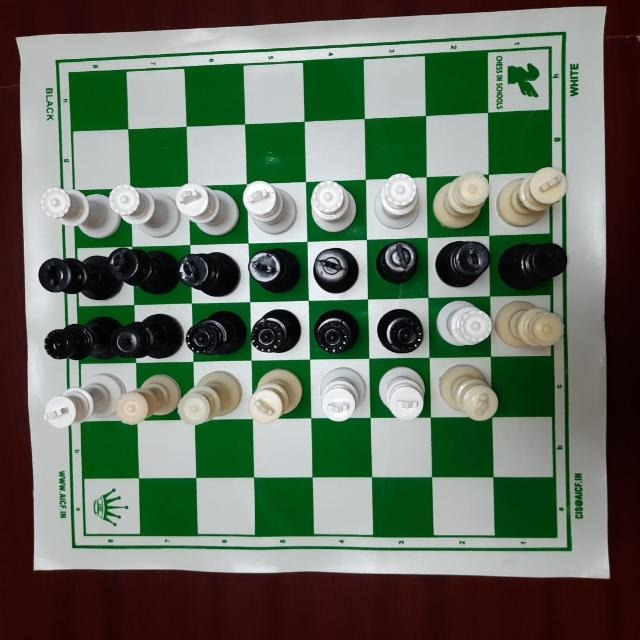black-king: (105, 247, 183, 305), (500, 234, 572, 296), (41, 247, 113, 303), (174, 246, 245, 301), (309, 244, 371, 304), (239, 248, 308, 301), (437, 242, 497, 296), (376, 241, 430, 296)
black-queen: (40, 307, 118, 364), (108, 305, 186, 362), (374, 305, 434, 363), (188, 312, 250, 364), (248, 306, 306, 358), (310, 309, 368, 359)
white-king: (39, 370, 123, 435), (496, 165, 569, 227), (439, 363, 503, 433), (235, 177, 307, 239), (246, 364, 305, 431), (310, 366, 371, 428), (172, 179, 238, 236), (376, 365, 437, 426)
white-queen: (174, 367, 242, 435), (493, 298, 573, 355), (37, 182, 115, 240), (107, 182, 181, 240), (118, 368, 182, 434), (428, 169, 492, 233), (308, 174, 366, 239), (427, 302, 497, 354), (371, 170, 421, 240)
